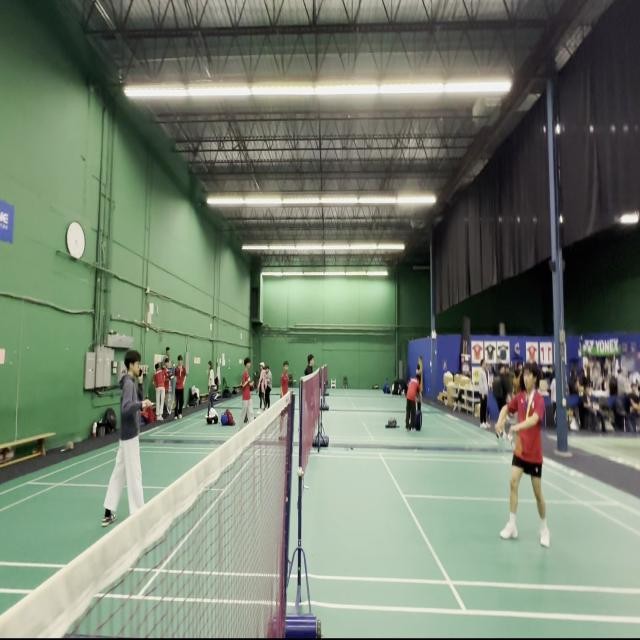shuttlecock: (508, 433, 514, 445)
